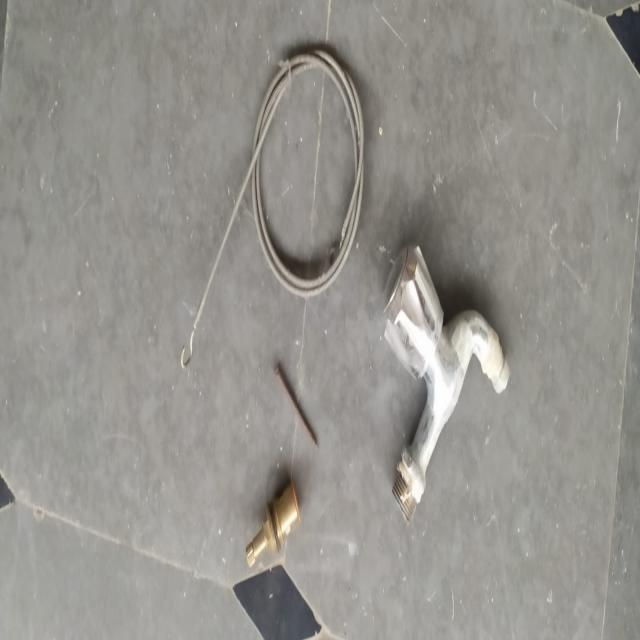metal: (165, 41, 363, 350), (228, 481, 308, 574), (264, 354, 329, 456)
plastic: (372, 239, 524, 530)
